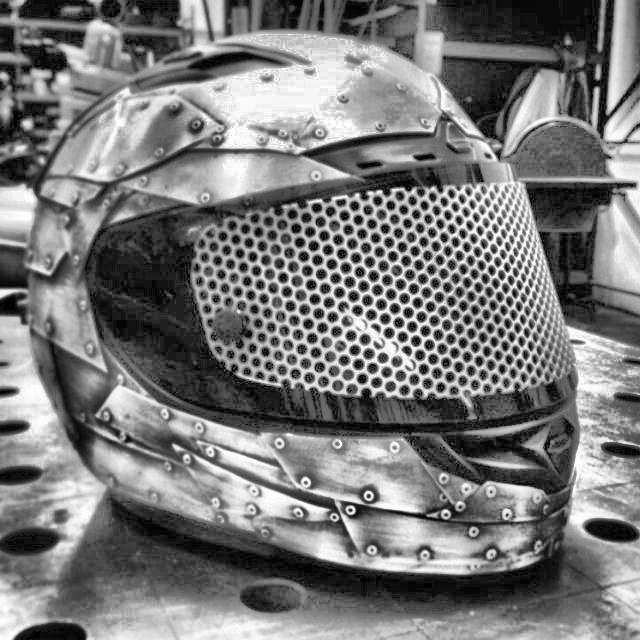Helmet: (14, 17, 585, 587)
